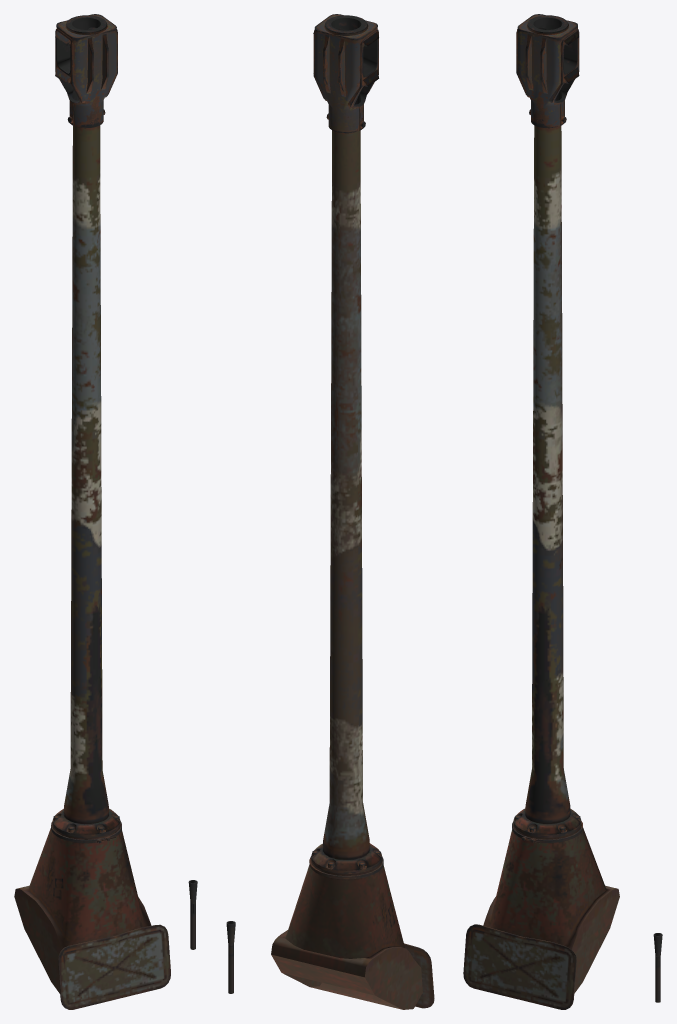
Rendered from Gun_10.glb.
3 views of the same model, side by side, from view 1: azimuth 30°, elevation 25°; view 2: azimuth 150°, elevation 25°; view 3: azimuth 330°, elevation 25° (orthographic). The views are drawn at different scales.
Visible parts, largest first — view 1: set_0_group_0; view 2: set_0_group_0; view 3: set_0_group_0.
Boxes of the visible parts, <box> form: set_0_group_0: <box>14,14,197,1009</box>; set_0_group_0: <box>226,14,434,1009</box>; set_0_group_0: <box>463,14,662,1009</box>.
Bounding box in the file's own units: 1.03 × 5.58 × 0.6132.
1 material, 1 textured.
